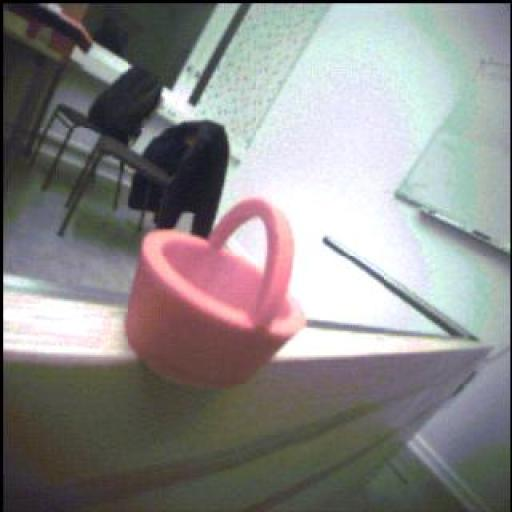Bucket: (130, 196, 305, 390)
